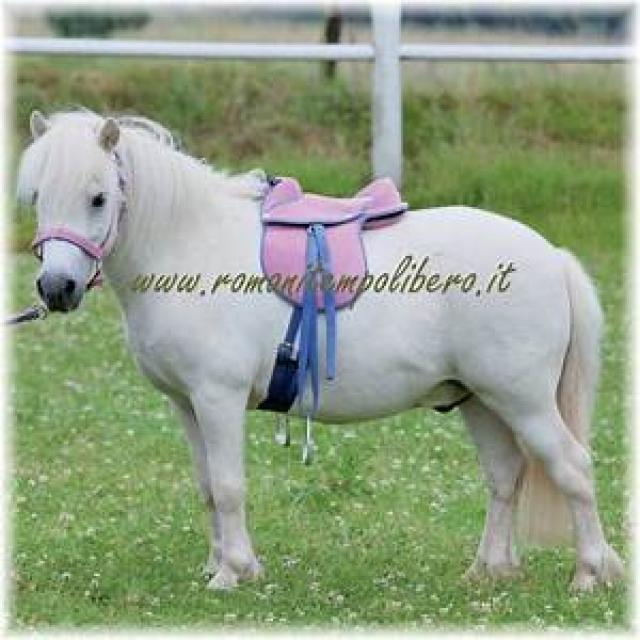animal: (28, 115, 624, 593)
